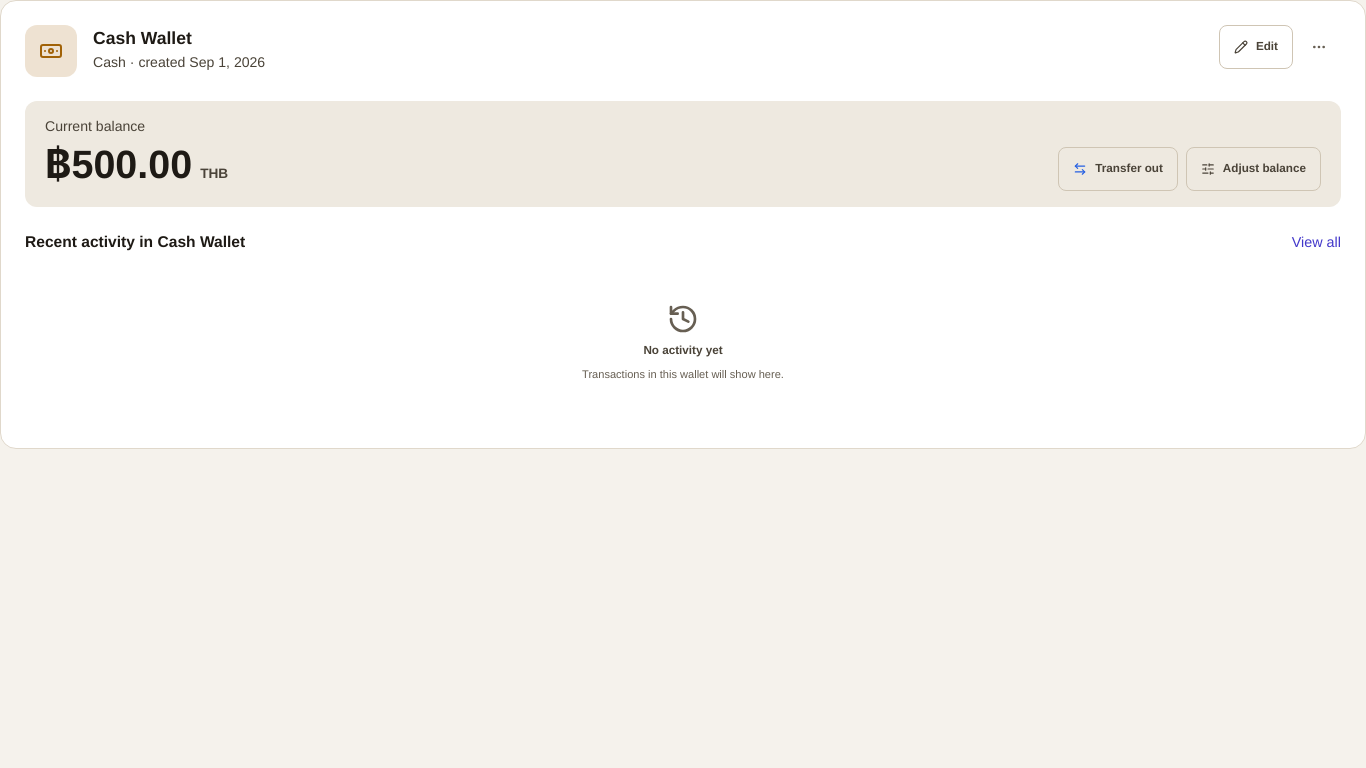
Test: a wallet's edit or adjustment that finishes after another wallet is selected (ADR 0056) › closes its own editor when it succeeds
Click the button with id "wallet-edit-btn": point(1256, 47) [1219, 25, 1293, 69]
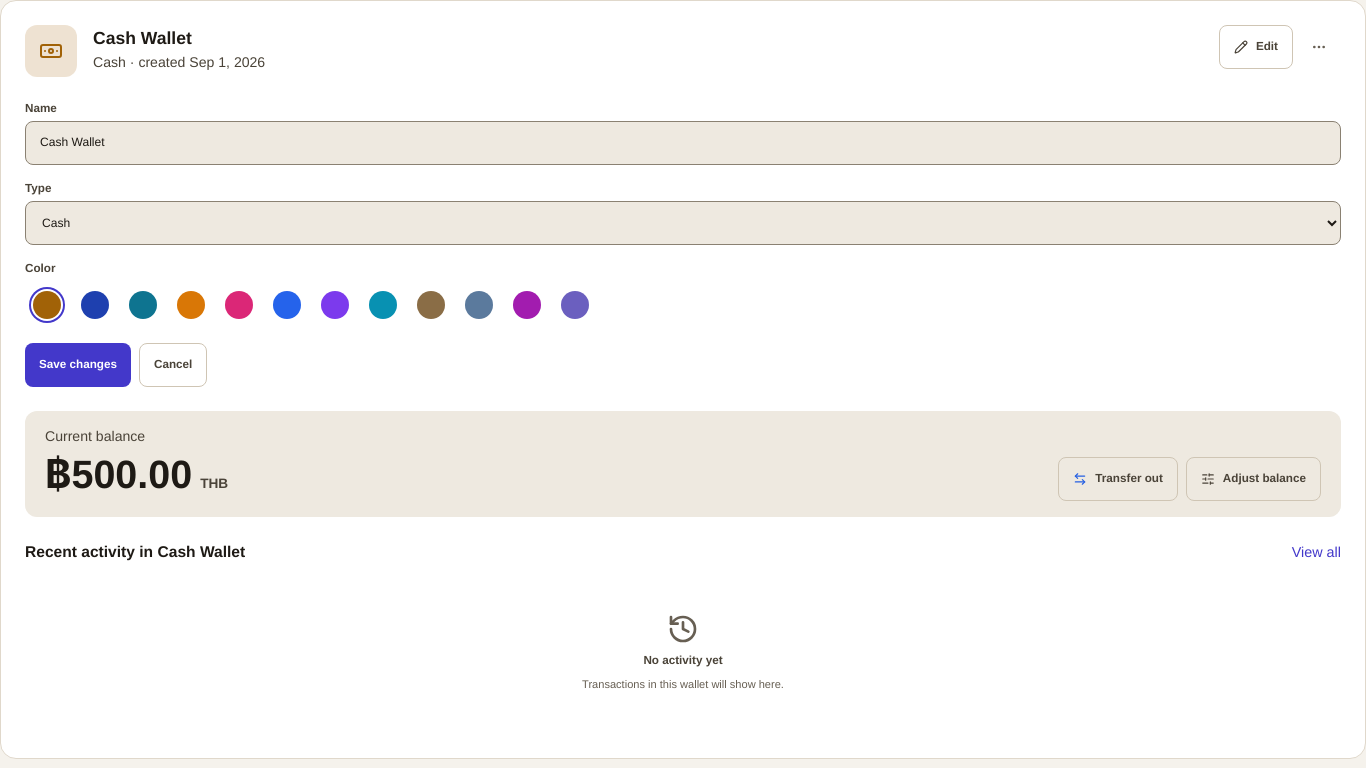
Replace the text in the field with id "wallet-edit-name" with "Cash renamed": point(683, 143) [25, 121, 1341, 165]
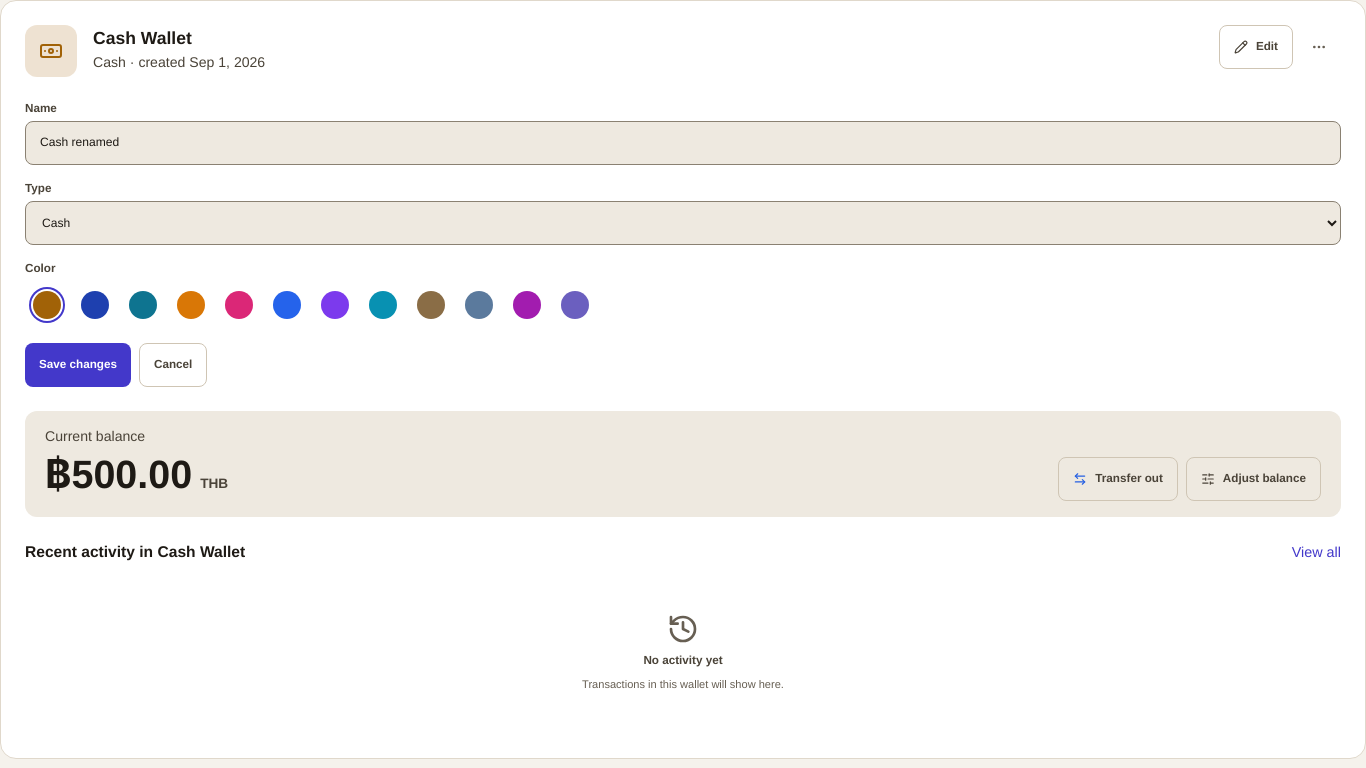
Submit the form with id "wallet-edit-form", box [25, 101, 1341, 387]
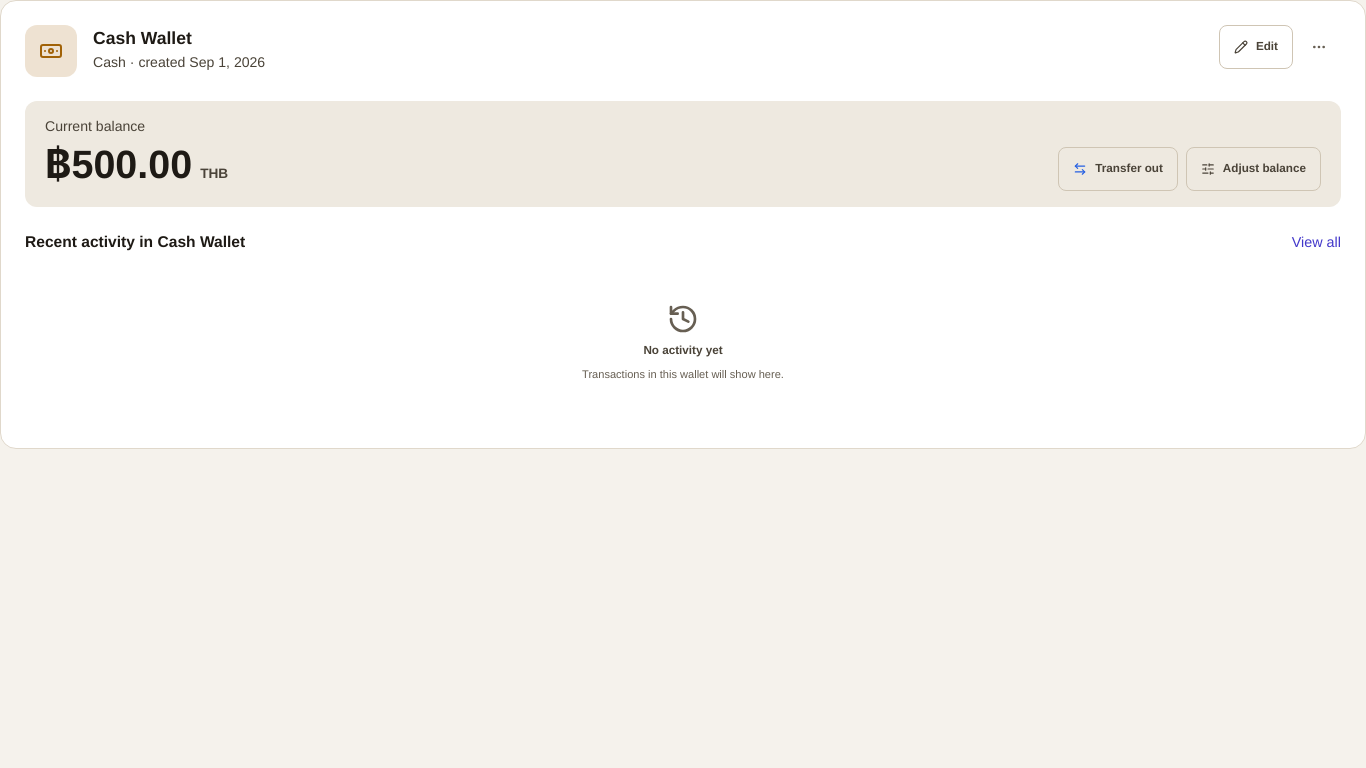
Expected: the form with id "wallet-edit-form" is gone
